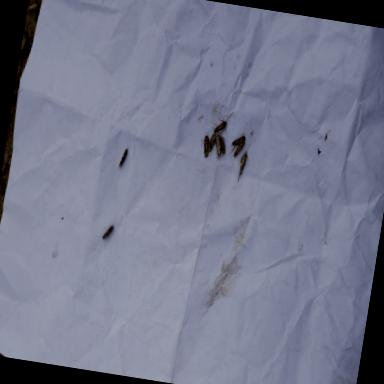pbw: (235, 150, 249, 184), (226, 133, 245, 158), (198, 134, 211, 158), (212, 118, 228, 134), (100, 224, 113, 242), (212, 136, 223, 156), (118, 147, 128, 168), (208, 132, 216, 152), (218, 138, 226, 154)
